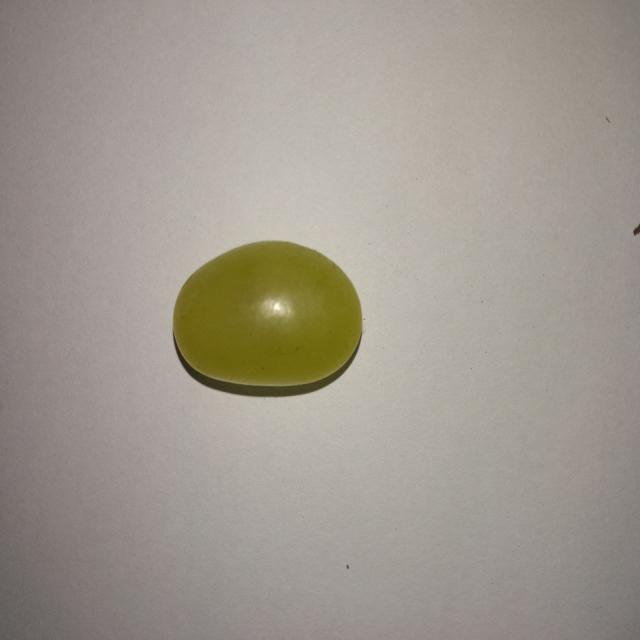fresh_grape: (172, 239, 360, 386)
